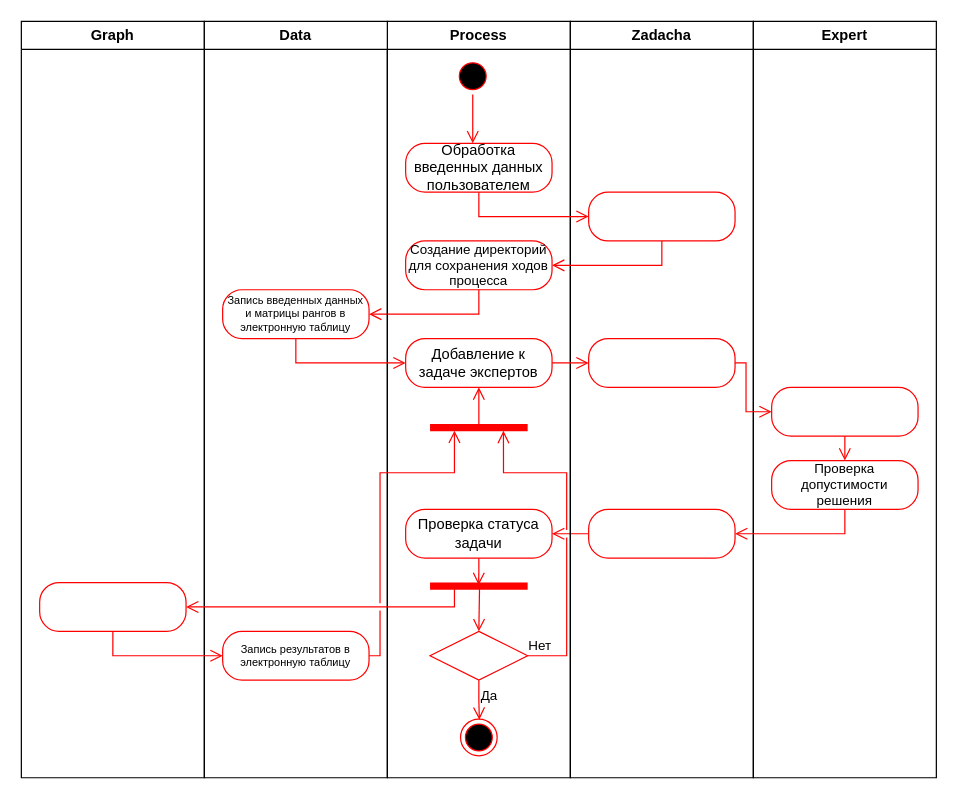
This 958x799 diagram has some shape labels left out. Each missing label, with the centre of its shape:
"Запуск расчёта применимости исходных весовых коэффициентов" belongs at point 844,411.
"Изменение статуса задачи" belongs at point 661,533.
"Начало работы экспертов" belongs at point 661,362.
"Создание графических изображений" belongs at point 112,606.
"Статус завершения" belongs at point 478,655.
"Формирование матрицы рангов" belongs at point 661,216.
